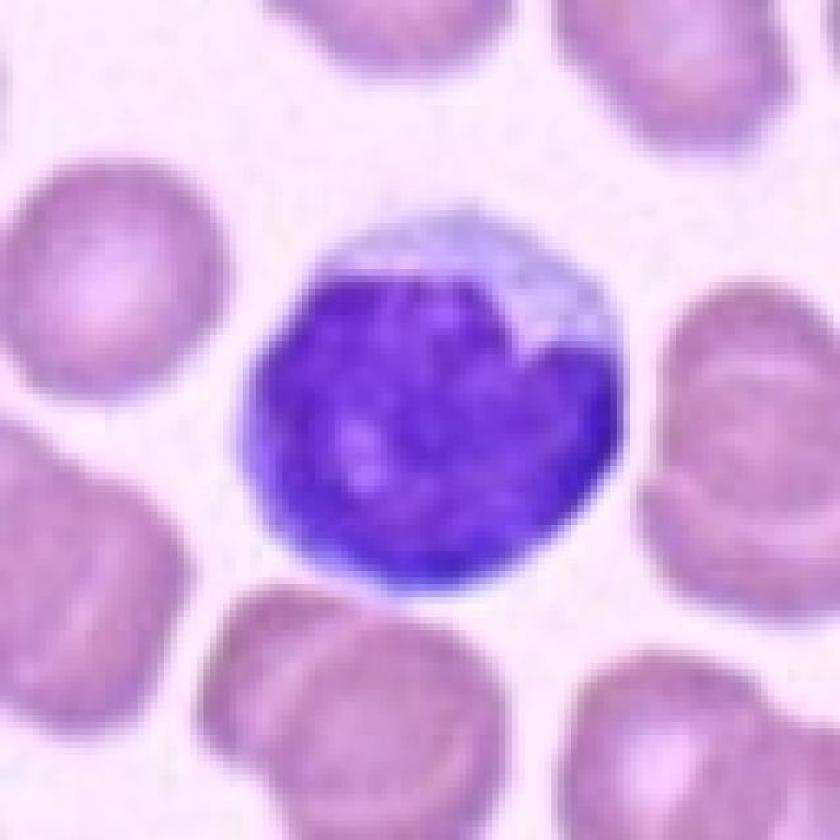lymphocyte: (236, 191, 638, 606)
